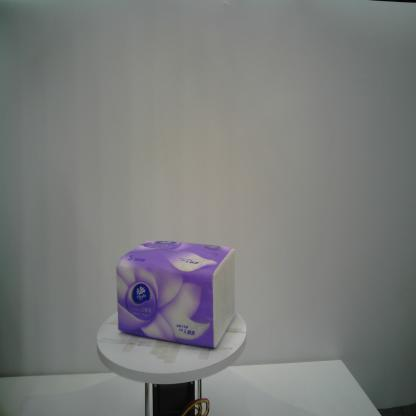Tissue: (115, 238, 236, 349)
